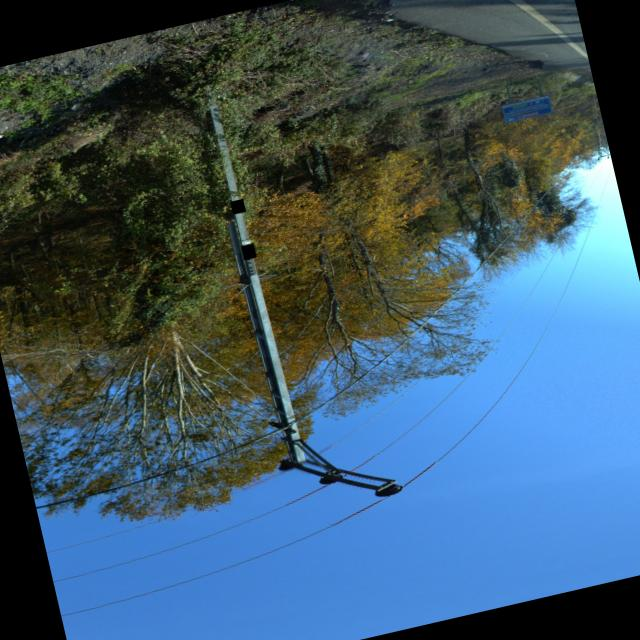Utility Pole Information Plate: (239, 242, 255, 259), (229, 198, 244, 213)
